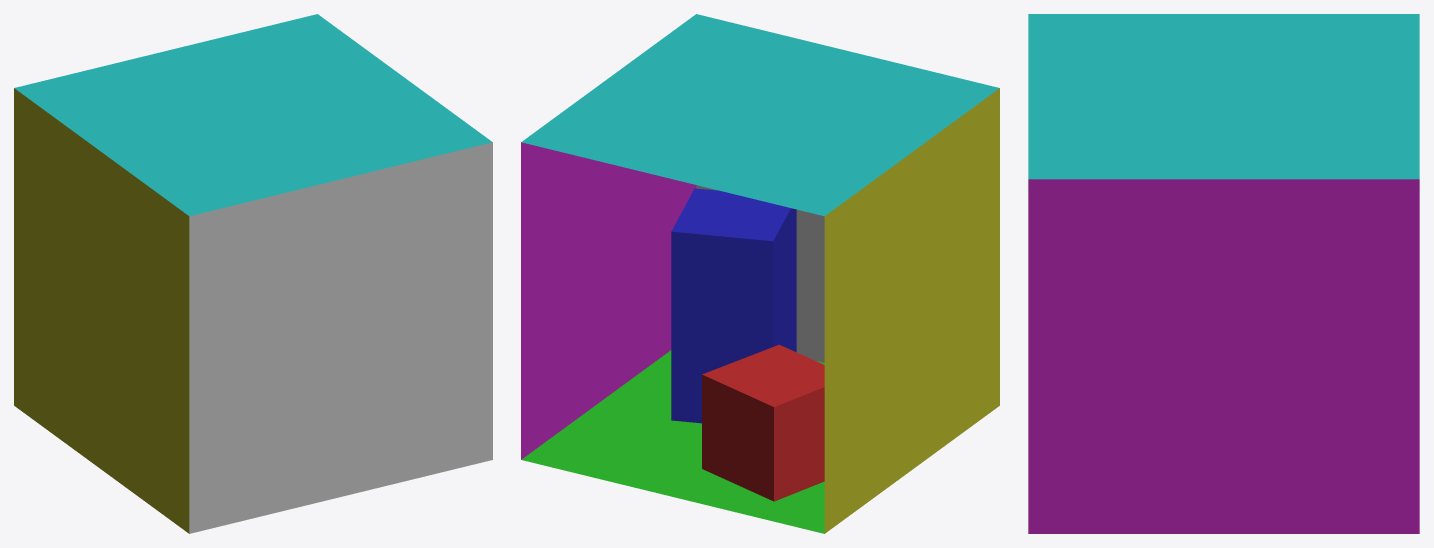
File: cornell_box.obj
3 renders of one model, left to right at view 1: azimuth 30°, elevation 25°; view 2: azimuth 150°, elevation 25°; view 3: azimuth 270°, elevation 25°, orthographic. The views are drawn at different scales.
Bounding box in the file's own units: 2 × 2 × 2.
